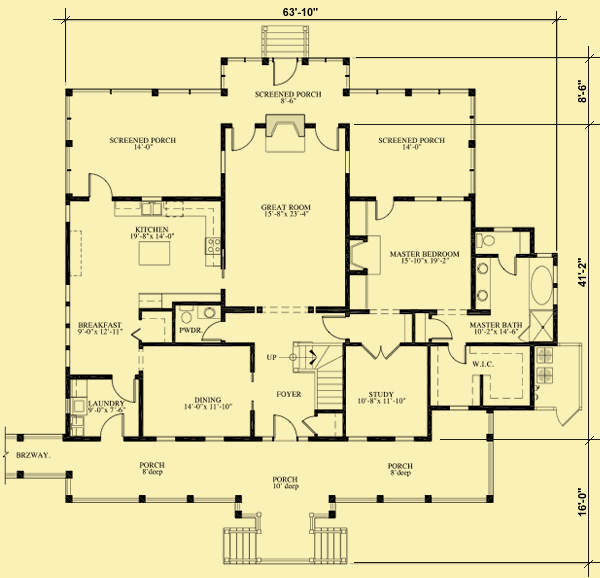bathroom has small and large sink: (170, 300, 226, 345)
there is a kitchen with counter, twin sink and cooking range: (65, 198, 225, 302)
this laundry room is with a washer and dryer: (66, 373, 142, 441)
this master bathroom has dual sinks, tub and shower space: (474, 226, 559, 345)
